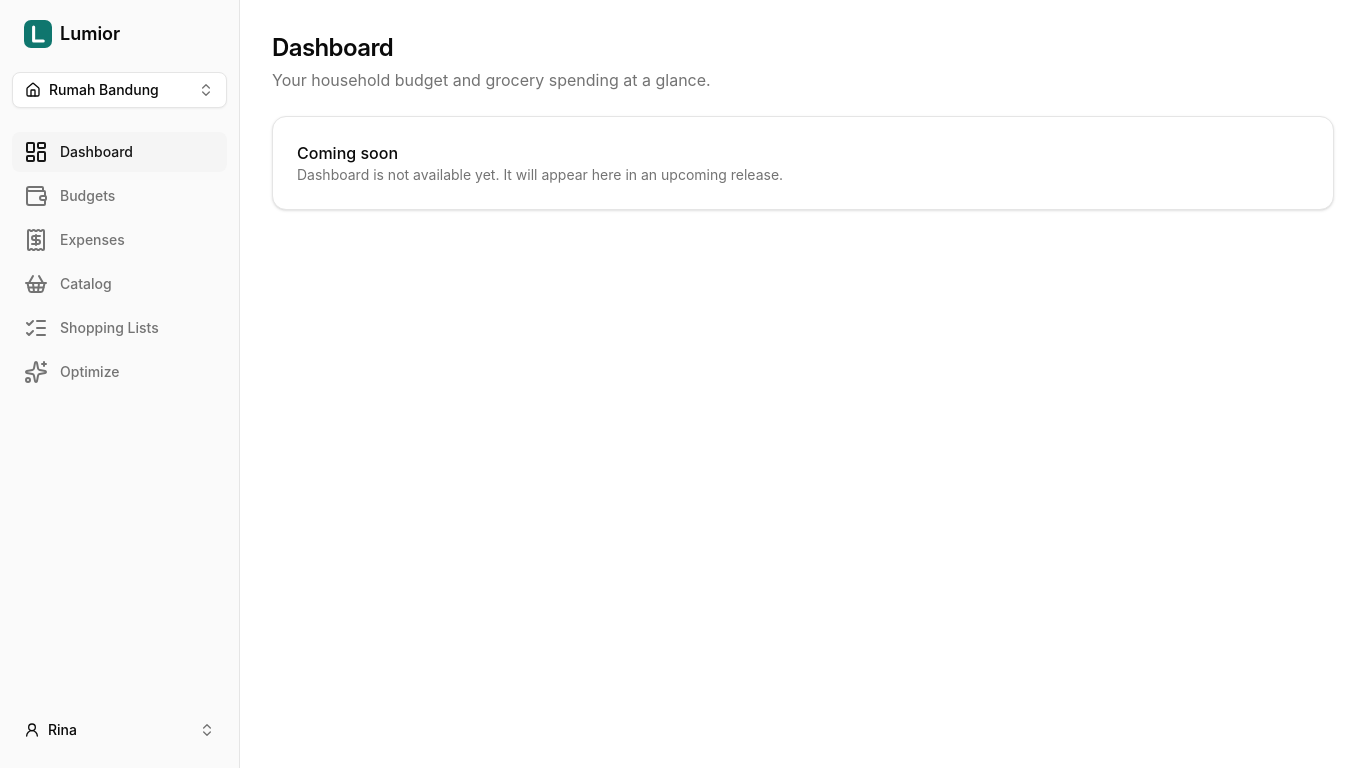
Test: sidebar navigation › clicking a link navigates without a reload and marks the link active
The image size is (1366, 768).
expect the heading "Dashboard" is shown: met, box [272,33,393,62]
Click the link "Budgets": (70, 196) [24,184,115,208]
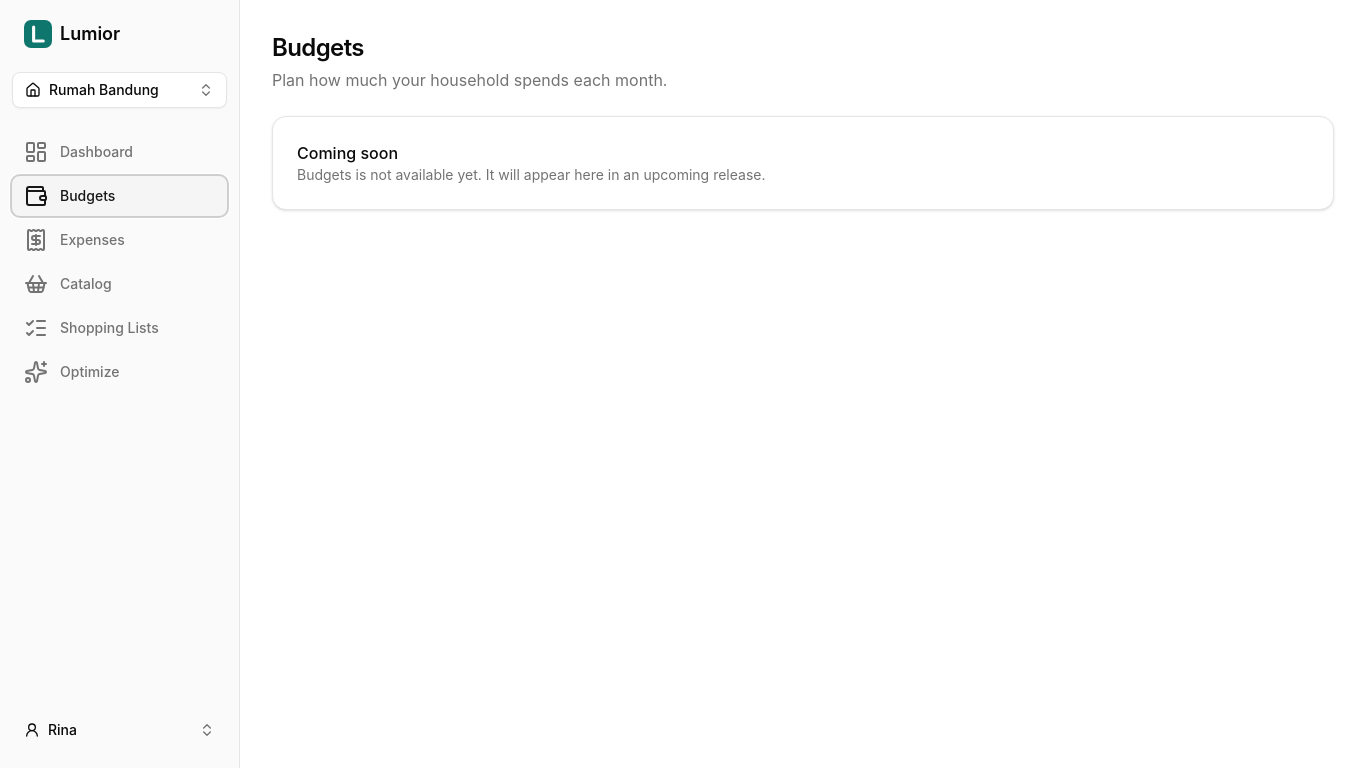
expect the heading "Budgets" is shown: met, box [272,33,364,62]
